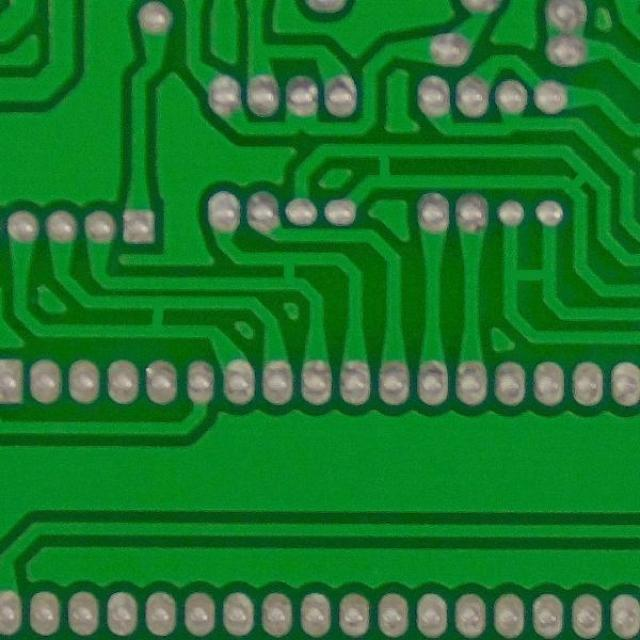short: (500, 256, 564, 303), (360, 138, 414, 191), (262, 247, 319, 296), (131, 292, 186, 342), (557, 163, 600, 203)
